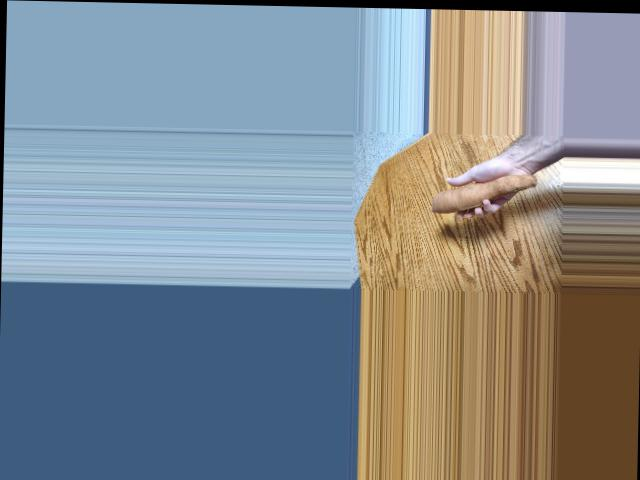sweet_potato: (430, 172, 548, 219)
